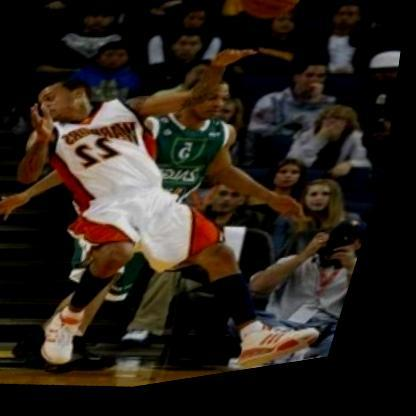basketball: (230, 0, 312, 42)
